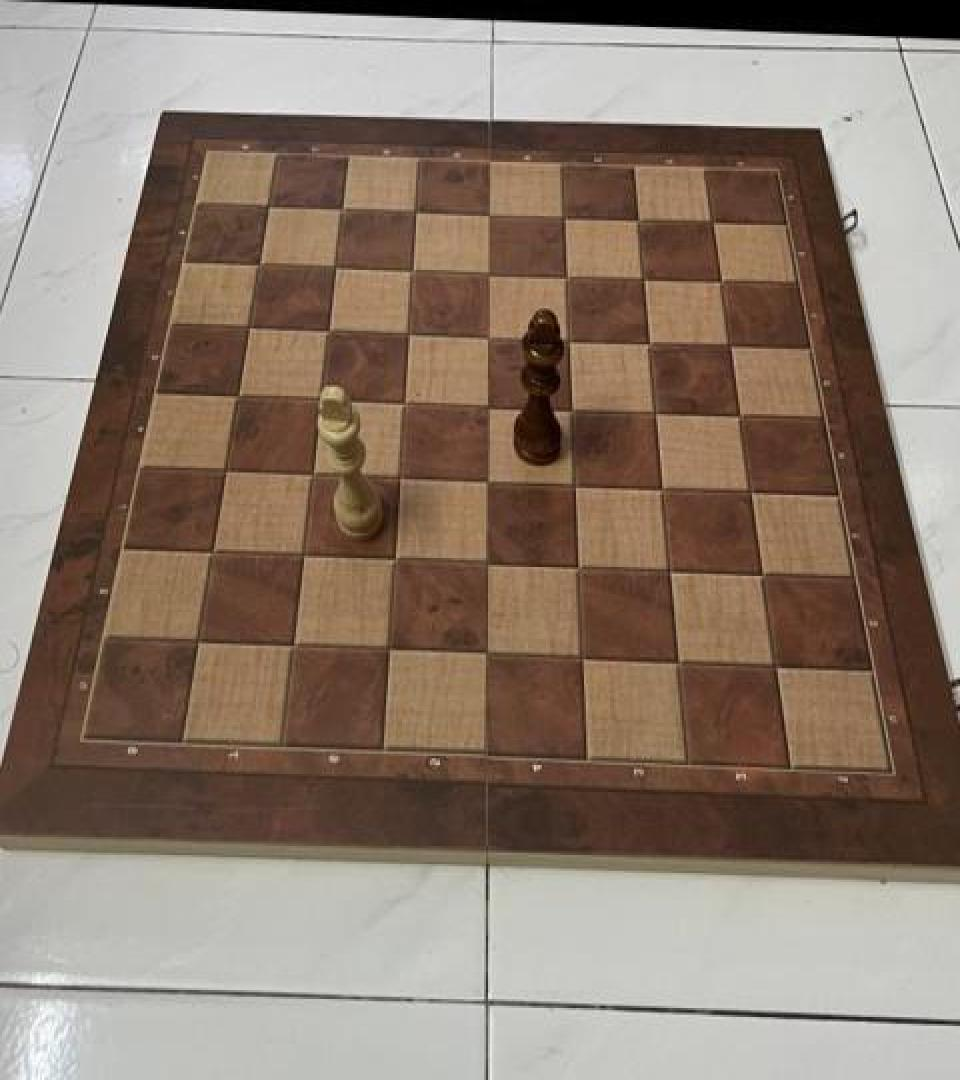xcorner: (696, 201, 730, 240), (551, 255, 585, 294), (314, 309, 348, 348), (558, 462, 592, 501), (255, 187, 289, 225), (328, 189, 362, 227), (401, 192, 435, 230), (475, 194, 509, 232), (549, 196, 583, 234), (622, 199, 656, 237), (245, 244, 279, 282), (321, 246, 355, 284), (398, 250, 432, 288), (474, 252, 508, 290), (628, 258, 662, 296), (704, 260, 738, 298), (235, 307, 269, 345), (394, 313, 428, 351), (473, 315, 507, 353), (553, 318, 587, 356), (633, 321, 667, 359), (713, 324, 747, 362), (223, 376, 257, 414), (306, 378, 340, 416), (389, 382, 423, 420), (472, 385, 506, 423), (556, 387, 590, 425), (639, 390, 673, 428), (723, 394, 757, 432), (211, 450, 245, 488), (298, 454, 332, 492), (384, 457, 418, 495), (471, 459, 505, 497), (646, 466, 680, 504), (733, 469, 767, 507), (197, 531, 231, 569), (288, 534, 322, 572), (379, 538, 413, 576), (470, 542, 504, 580), (561, 546, 595, 584), (653, 549, 687, 587), (745, 552, 779, 590), (182, 621, 216, 659), (278, 624, 312, 662), (373, 629, 407, 667), (469, 632, 503, 670), (565, 637, 599, 675), (661, 640, 695, 678), (757, 644, 791, 682)
